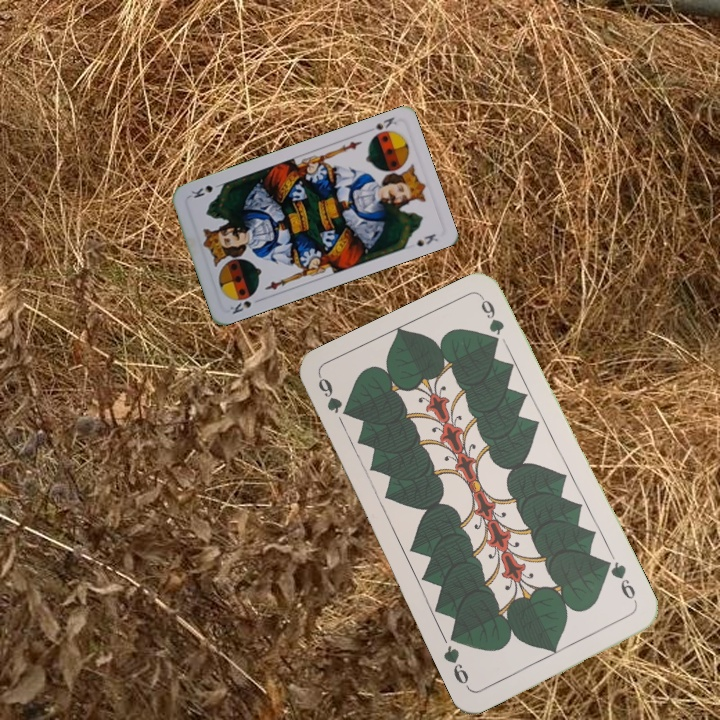G9: (602, 556, 640, 609), (314, 373, 354, 420)
SK: (362, 113, 399, 141), (226, 297, 254, 317)
